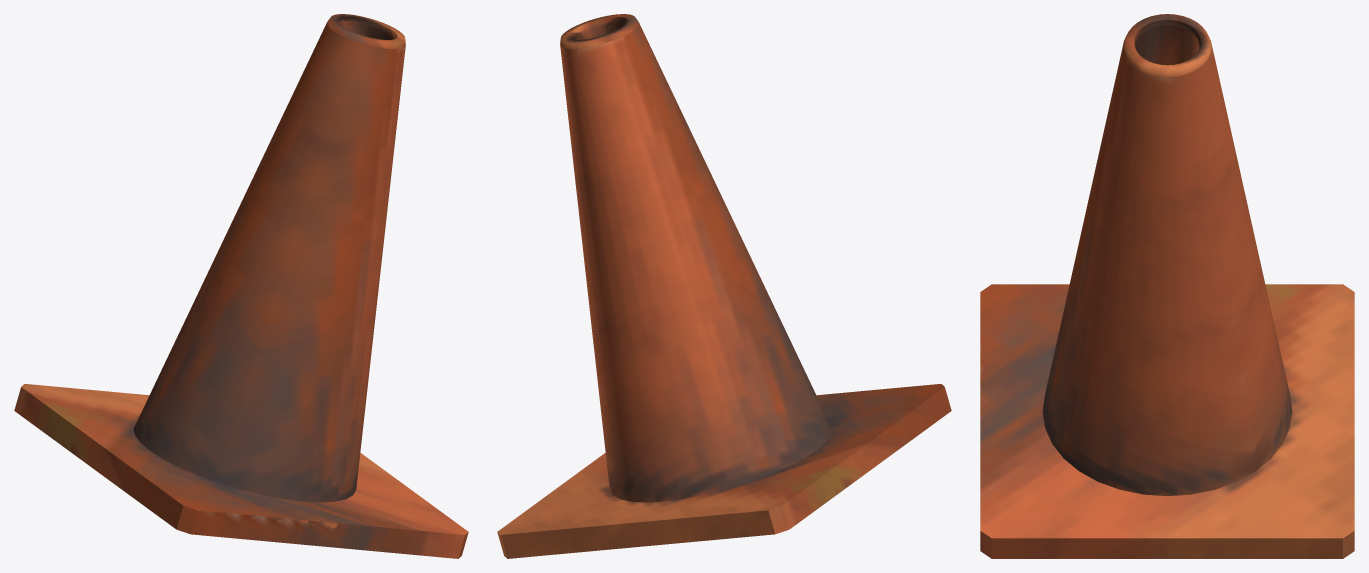
3 renders of one model, left to right at view 1: azimuth 30°, elevation 25°; view 2: azimuth 150°, elevation 25°; view 3: azimuth 270°, elevation 25°, orthographic. The views are drawn at different scales.
Visible parts, largest first — view 1: Cube; view 2: Cube; view 3: Cube.
Part boxes in pixels (x1,y1,x2,y2): Cube: (14,14,468,558); Cube: (497,14,951,558); Cube: (980,14,1354,558).
Size of the model in its own units: 0.5702 by 0.8615 by 0.5606.
